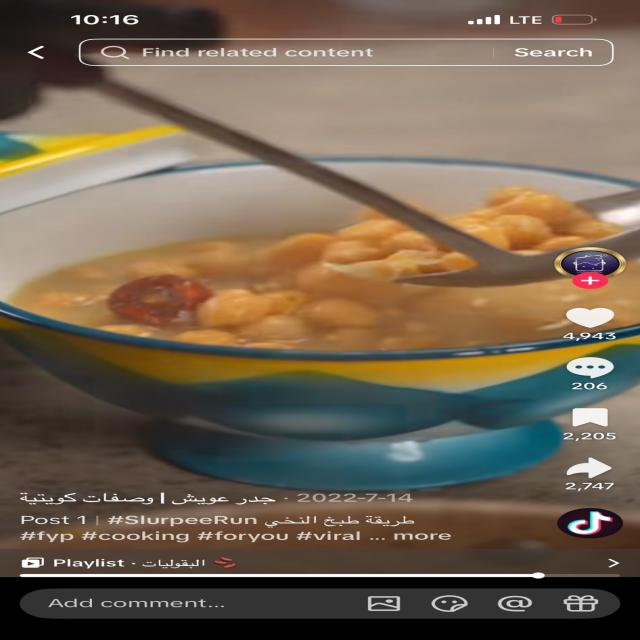Nakhi: (3, 174, 640, 382)
